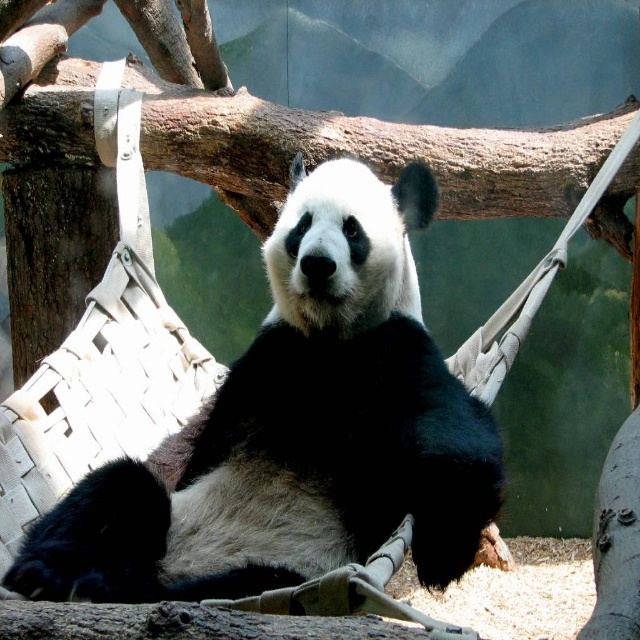Panda: (5, 149, 505, 605)
